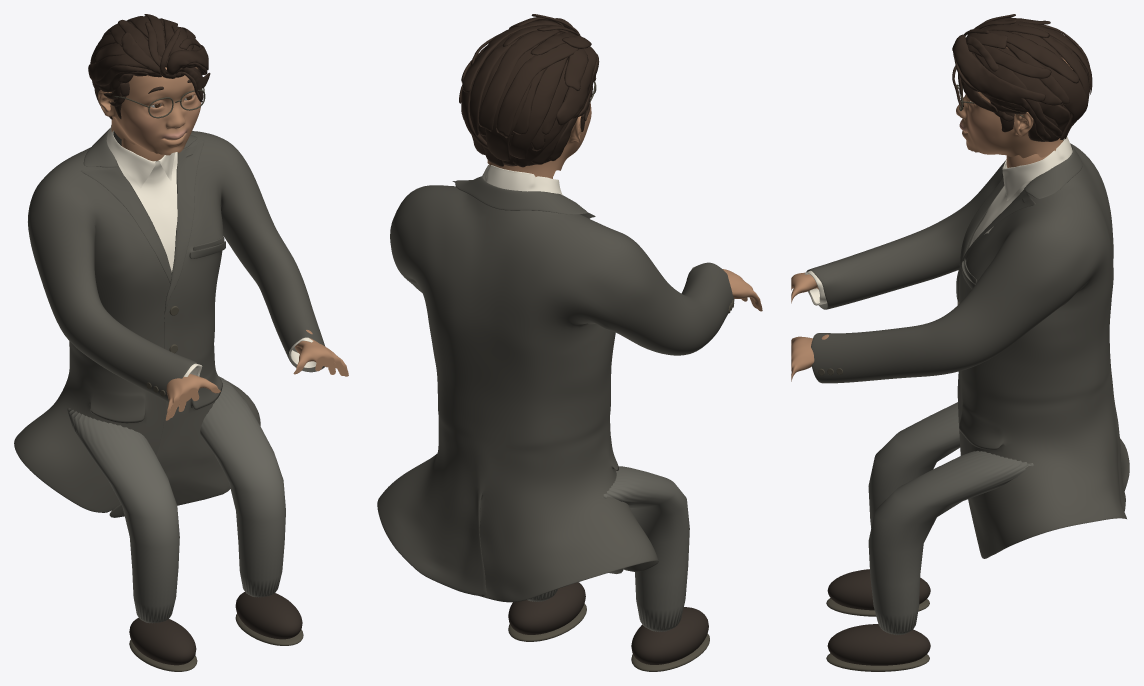
Rendered from examiner-v3.glb.
3 views of the same model, side by side, from view 1: azimuth 30°, elevation 25°; view 2: azimuth 150°, elevation 25°; view 3: azimuth 270°, elevation 25° (orthographic). The views are drawn at different scales.
Parts seen in each view (by area): view 1: Authored tailored jacket, Seated tailored trouser -1, Seated tailored trouser 1, Sculpted layered swept hair, Anatomical face, eyelids, lips, ears and neck, Authored ivory shirt and open collar, Leather shoe 1, Leather shoe -1, Anatomical relaxed hand -1, Anatomical relaxed hand 1, Shoe sole 1, Shoe sole -1; view 2: Authored tailored jacket, Sculpted layered swept hair, Seated tailored trouser -1, Leather shoe -1, Leather shoe 1, Authored ivory shirt and open collar, Anatomical face, eyelids, lips, ears and neck, Shoe sole 1, Shoe sole -1, Anatomical relaxed hand -1; view 3: Authored tailored jacket, Sculpted layered swept hair, Seated tailored trouser 1, Seated tailored trouser -1, Anatomical face, eyelids, lips, ears and neck, Leather shoe 1, Authored ivory shirt and open collar, Leather shoe -1, Shoe sole 1, Anatomical relaxed hand 1.
Boxes of the visible parts, <box> form: Authored tailored jacket: <box>14,128,325,517</box>; Seated tailored trouser -1: <box>67,408,179,623</box>; Seated tailored trouser 1: <box>200,376,285,597</box>; Sculpted layered swept hair: <box>88,14,210,119</box>; Anatomical face, eyelids, lips, ears and neck: <box>98,67,201,155</box>; Authored ivory shirt and open collar: <box>106,125,177,271</box>; Leather shoe 1: <box>235,592,302,639</box>; Leather shoe -1: <box>129,618,196,665</box>; Anatomical relaxed hand -1: <box>165,374,220,420</box>; Anatomical relaxed hand 1: <box>293,341,348,376</box>; Shoe sole 1: <box>235,613,303,645</box>; Shoe sole -1: <box>129,640,197,671</box>; Authored tailored jacket: <box>377,176,734,602</box>; Sculpted layered swept hair: <box>459,14,599,167</box>; Seated tailored trouser -1: <box>602,466,689,631</box>; Leather shoe -1: <box>631,607,708,664</box>; Leather shoe 1: <box>508,582,585,634</box>; Authored ivory shirt and open collar: <box>482,164,562,194</box>; Anatomical face, eyelids, lips, ears and neck: <box>487,102,591,177</box>; Shoe sole 1: <box>508,603,586,641</box>; Shoe sole -1: <box>631,634,709,671</box>; Anatomical relaxed hand -1: <box>722,269,762,311</box>; Authored tailored jacket: <box>806,140,1129,558</box>; Sculpted layered swept hair: <box>952,14,1092,141</box>; Seated tailored trouser 1: <box>868,450,1034,634</box>; Seated tailored trouser -1: <box>868,402,960,528</box>; Anatomical face, eyelids, lips, ears and neck: <box>956,47,1072,158</box>; Leather shoe 1: <box>827,624,930,665</box>; Authored ivory shirt and open collar: <box>969,136,1072,247</box>; Leather shoe -1: <box>827,569,930,610</box>; Shoe sole 1: <box>826,653,929,671</box>; Anatomical relaxed hand 1: <box>791,336,814,381</box>.
Size of the model in its own units: 0.8298 by 1.97 by 0.9846.
